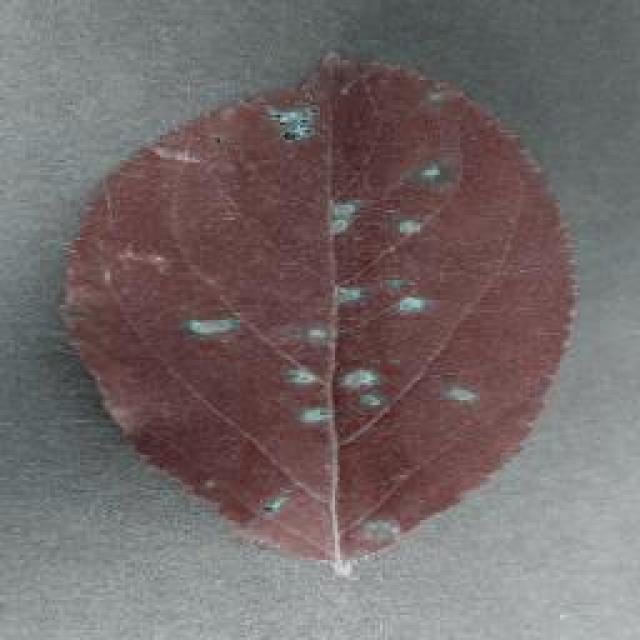apple cedar apple rust: (55, 48, 580, 570)
